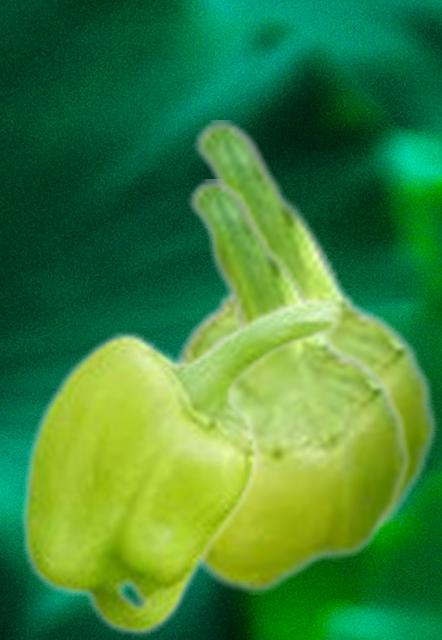bell_pepper: (170, 120, 438, 541), (19, 294, 344, 636), (178, 179, 411, 593)
